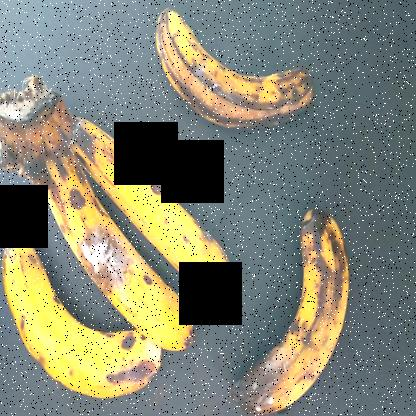overripe: (62, 118, 250, 304), (36, 151, 200, 339), (1, 218, 160, 402)
rotten: (229, 197, 359, 415), (141, 0, 326, 138)
